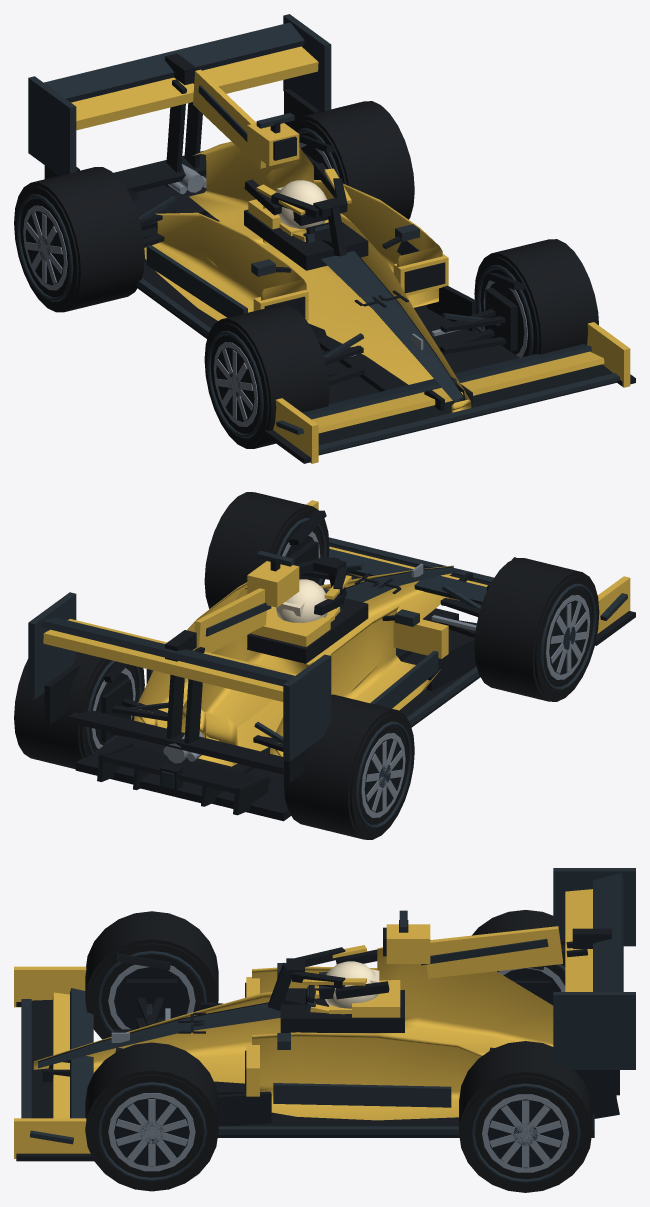
The model's file is solstice-44.glb.
3 renders of one model, top to bottom at view 1: azimuth 30°, elevation 25°; view 2: azimuth 150°, elevation 25°; view 3: azimuth 270°, elevation 25°, orthographic.
Visible parts, largest first — view 1: formula-44, wheel (×4); view 2: formula-44, wheel (×4); view 3: formula-44, wheel (×4).
Part boxes in pixels (x1=…): formula-44: x1=28, y1=14, x2=635, y2=463; wheel (×4): x1=14, y1=101, x2=598, y2=448; formula-44: x1=28, y1=500, x2=635, y2=821; wheel (×4): x1=14, y1=492, x2=599, y2=839; formula-44: x1=14, y1=868, x2=635, y2=1161; wheel (×4): x1=85, y1=910, x2=592, y2=1192.
Bounding box in the file's own units: 3.41 × 1.85 × 5.41.
